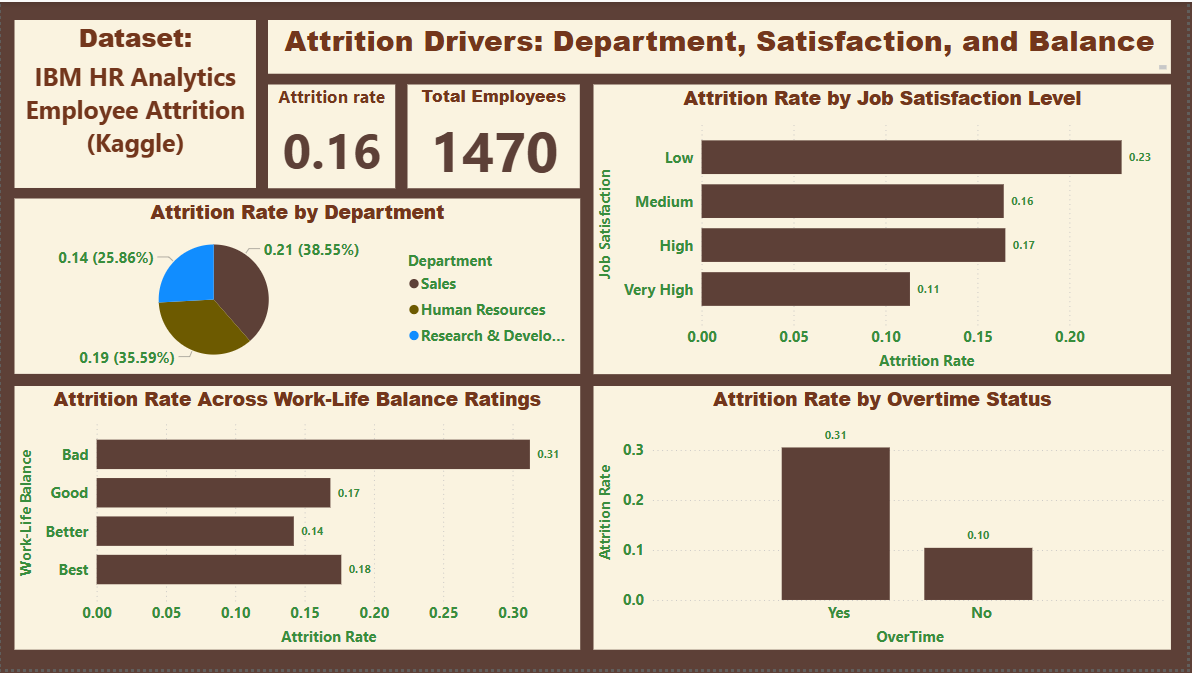

This screenshot's page, from the dashboard's own definition file:
{"tool":"powerbi","page":{"name":"Page 1","canvas":[1280,720],"ordinal":0},"visuals":[{"type":"pieChart","title":"Attrition Rate by Department","fields":{"Category":["hr_data_for_powerbi.Department"],"Y":["Avg(hr_data_for_powerbi.AttritionNumeric)"]},"box":[14.6,212.1,610.4,189.4],"z":0},{"type":"barChart","title":"Attrition Rate by Job Satisfaction Level","fields":{"Category":["hr_data_for_powerbi.JobSatisfactionLabel"],"Y":["Avg(hr_data_for_powerbi.AttritionNumeric)"]},"box":[639.6,89.1,623.4,312.5],"z":1000},{"type":"clusteredColumnChart","title":"Attrition Rate by Overtime Status","fields":{"Category":["hr_data_for_powerbi.OverTime"],"Y":["Avg(hr_data_for_powerbi.AttritionNumeric)"]},"box":[639.6,414.5,623.4,285],"z":2000},{"type":"barChart","title":"Attrition Rate Across Work-Life Balance Ratings","fields":{"Category":["hr_data_for_powerbi.WorkLifeBalanceLabel"],"Y":["Avg(hr_data_for_powerbi.AttritionNumeric)"]},"box":[14.6,414.5,610.4,285],"z":3000},{"type":"textbox","title":"Attrition Drivers: Department, Satisfaction, and Balance","box":[288.2,19.4,974.8,58.3],"z":4000},{"type":"card","title":"Total Employees","fields":{"Values":["Count(hr_data_for_powerbi.EmployeeNumber)"]},"box":[438.8,89.1,186.2,111.7],"z":5000},{"type":"card","title":"Attrition rate","fields":{"Values":["Avg(hr_data_for_powerbi.AttritionNumeric)"]},"box":[288.2,89.1,137.6,111.7],"z":6000},{"type":"textbox","title":"Dataset:","box":[14.6,19.4,260.7,181.4],"z":7000}]}

Visuals, with their boxes in screenshot pixels (x1, y1, x2, y2), scaled from the page's 1280x720 canvas onto the 1192x673 screenshot:
"Attrition Rate by Department" pieChart: x1=14 y1=198 x2=582 y2=375
"Attrition Rate by Job Satisfaction Level" barChart: x1=596 y1=83 x2=1176 y2=375
"Attrition Rate by Overtime Status" clusteredColumnChart: x1=596 y1=387 x2=1176 y2=654
"Attrition Rate Across Work-Life Balance Ratings" barChart: x1=14 y1=387 x2=582 y2=654
"Attrition Drivers: Department, Satisfaction, and Balance" textbox: x1=268 y1=18 x2=1176 y2=73
"Total Employees" card: x1=409 y1=83 x2=582 y2=188
"Attrition rate" card: x1=268 y1=83 x2=397 y2=188
"Dataset:" textbox: x1=14 y1=18 x2=256 y2=188
